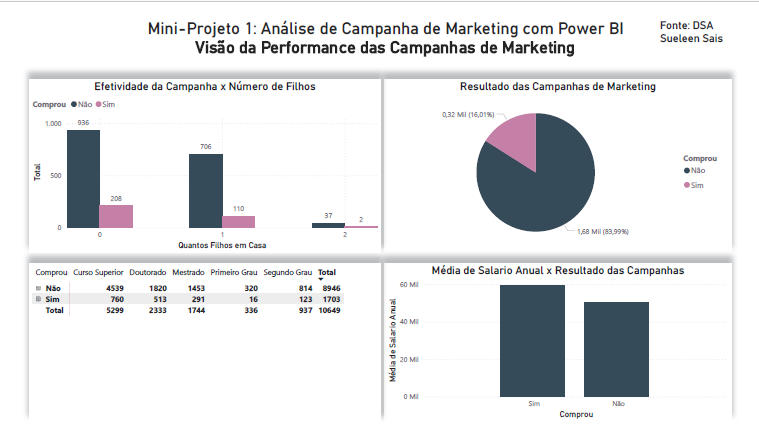

This screenshot's page, from the dashboard's own definition file:
{"tool":"powerbi","page":{"name":"Visão Campanhas","canvas":[1280,720],"ordinal":2},"visuals":[{"type":"textbox","box":[222.5,0,852.5,97.5],"z":0},{"type":"pieChart","title":"Resultado das Campanhas de Marketing","fields":{"Category":["DadosMarketing.Comprou"],"Y":["CountNonNull(DadosMarketing.ID)"]},"box":[648.3,111.7,603.3,301.7],"z":1000},{"type":"clusteredColumnChart","title":"Média de Salario Anual x Resultado das Campanhas","fields":{"Category":["DadosMarketing.Comprou"],"Y":["Avg(DadosMarketing.Salario Anual)"]},"box":[648.3,433.3,603.3,275],"z":2000},{"type":"pivotTable","fields":{"Rows":["DadosMarketing.Comprou","DadosMarketing.Estado Civil","DadosMarketing.Pais"],"Values":["Sum(DadosMarketing.Numero Visitas WebSite Mes)"],"Columns":["DadosMarketing.Escolaridade"]},"box":[28.3,433.3,611.7,275],"z":3000},{"type":"clusteredColumnChart","title":"Efetividade da Campanha x Número de Filhos","fields":{"Category":["DadosMarketing.Filhos em Casa"],"Y":["CountNonNull(DadosMarketing.Filhos em Casa)"],"Series":["DadosMarketing.Comprou"]},"box":[28.3,111.7,611.7,301.7],"z":4000},{"type":"textbox","box":[1122.5,0,130,57.5],"z":5000}]}

Visuals, with their boxes on the page's 1280x720 design canvas (x1, y1, x2, y2). These are canvas units, not pixel positions in the 759x441 screenshot, which may show the page scaled, cropped or inside an application window:
textbox: (222, 0, 1075, 98)
"Resultado das Campanhas de Marketing" pieChart: (648, 112, 1252, 413)
"Média de Salario Anual x Resultado das Campanhas" clusteredColumnChart: (648, 433, 1252, 708)
pivotTable - DadosMarketing.Comprou x DadosMarketing.Estado Civil: (28, 433, 640, 708)
"Efetividade da Campanha x Número de Filhos" clusteredColumnChart: (28, 112, 640, 413)
textbox: (1122, 0, 1252, 58)
